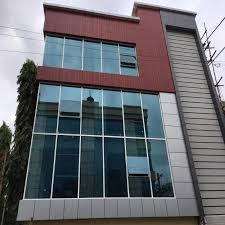glass_panel: (25, 135, 54, 197), (53, 136, 78, 197), (148, 140, 173, 196), (79, 137, 102, 197), (126, 139, 150, 196), (104, 138, 127, 196), (34, 84, 59, 132), (59, 86, 80, 133), (142, 94, 163, 137), (123, 92, 143, 136), (103, 91, 123, 135), (82, 89, 101, 134), (126, 139, 148, 174), (43, 36, 63, 67), (63, 38, 81, 69), (119, 46, 137, 75), (102, 43, 119, 73), (83, 41, 100, 71)
